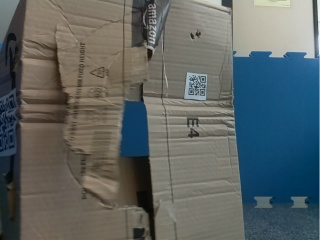caja_rota: (1, 1, 243, 240)
